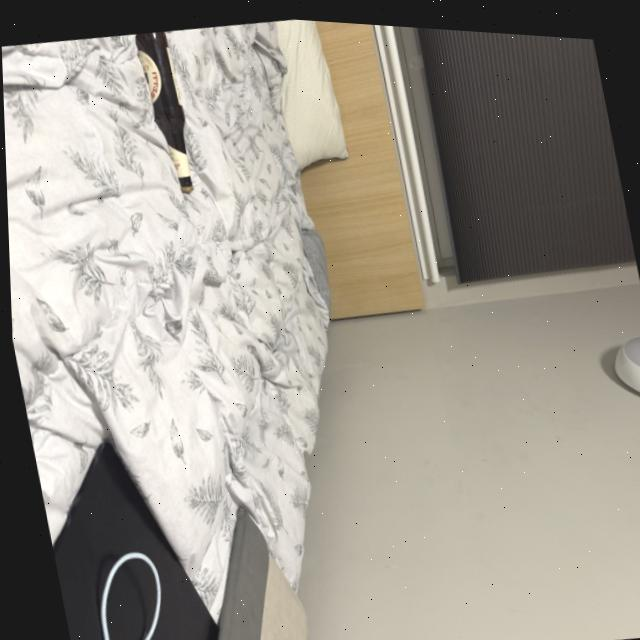beer: (130, 26, 206, 202)
